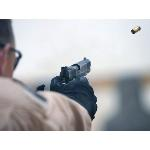Pistol: (54, 55, 94, 95)
